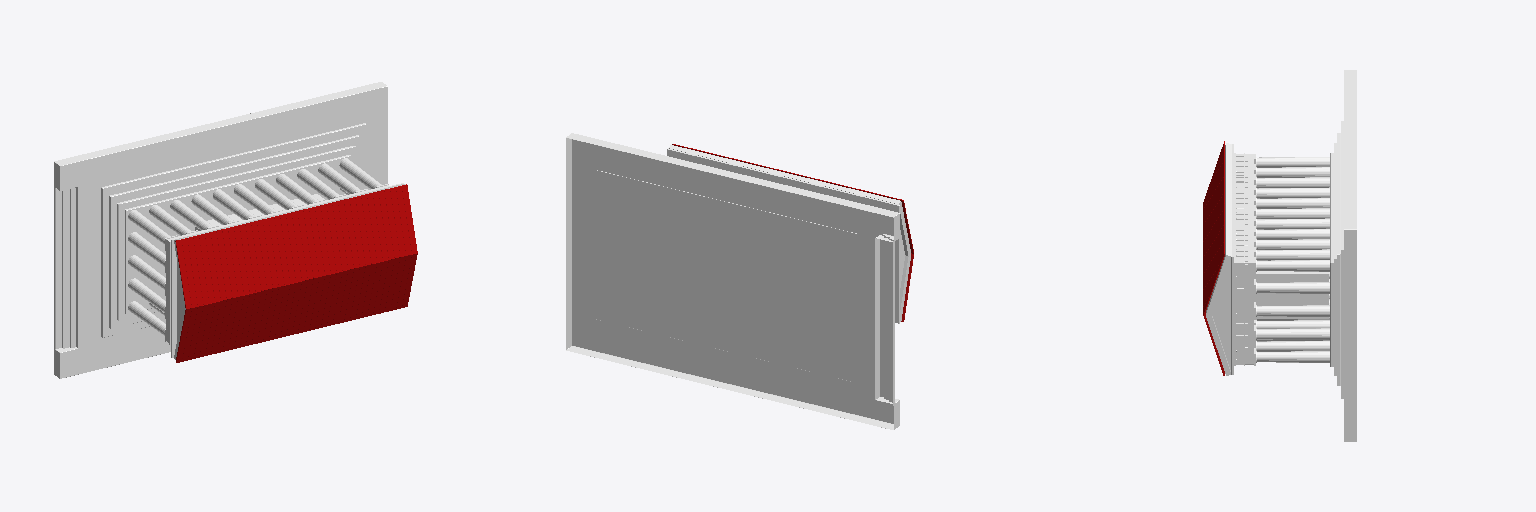
Rendered from doric_temple.obj.
The picture shows the model from 3 angles: view 1: azimuth 30°, elevation 25°; view 2: azimuth 150°, elevation 25°; view 3: azimuth 270°, elevation 25°; orthographic projection.
Parts seen in each view (by area): view 1: surf_04t, surf_07tu, surf_03t, surf_06tu, surf_05tu; view 2: surf_04t, surf_03t, surf_07tu; view 3: surf_06tu, surf_04t, surf_05tu, surf_03t, surf_07tu.
Part boxes in pixels (x1,y1,x2,y2): surf_04t: (54, 82, 403, 378); surf_07tu: (175, 184, 417, 362); surf_03t: (54, 135, 405, 359); surf_06tu: (128, 158, 381, 335); surf_05tu: (125, 155, 388, 345); surf_04t: (566, 133, 904, 429); surf_03t: (669, 145, 910, 405); surf_07tu: (672, 144, 913, 321); surf_06tu: (1257, 157, 1329, 362); surf_04t: (1212, 70, 1356, 441); surf_05tu: (1234, 153, 1333, 366); surf_03t: (1206, 133, 1340, 385); surf_07tu: (1203, 141, 1224, 375).
Size of the model in its own units: 6.52 by 4.04 by 2.64.